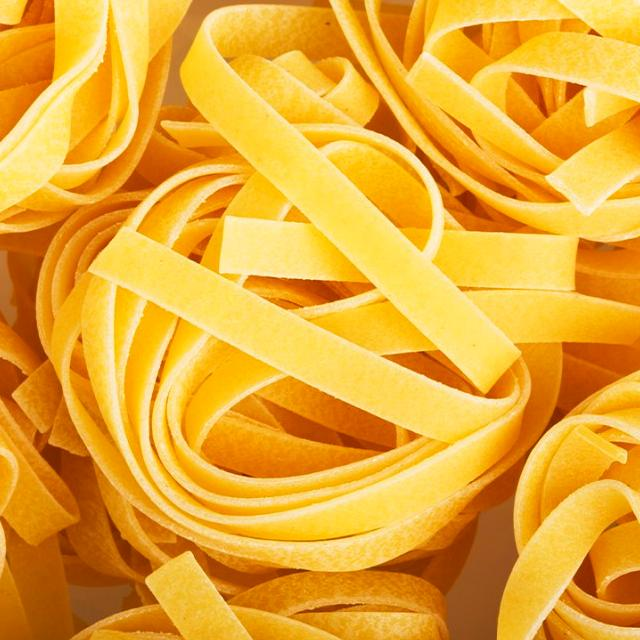noodles: (66, 158, 524, 562), (416, 2, 640, 241), (506, 329, 640, 632), (0, 0, 122, 234)
